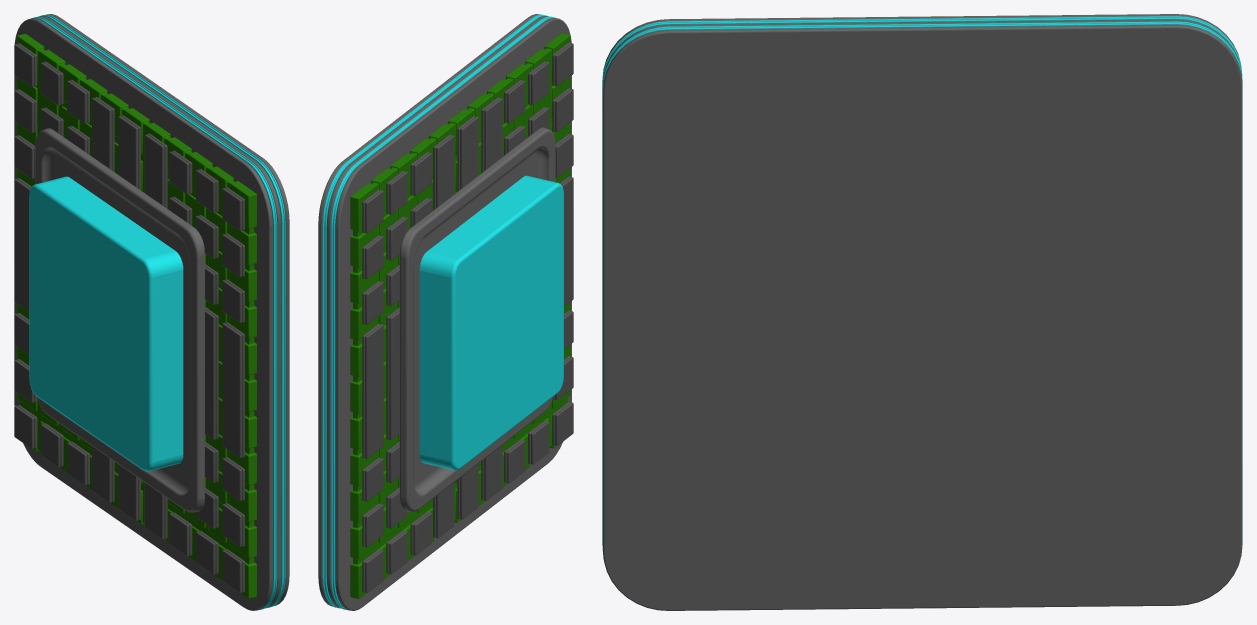
File: chip.fbx
The picture shows the model from 3 angles, left to right: view 1: azimuth 30°, elevation 25°; view 2: azimuth 150°, elevation 25°; view 3: azimuth 270°, elevation 25°; orthographic projection. The views are drawn at different scales.
Visible parts, largest first — view 1: Cubo, PLaca, base, placa_base, base_cubo, detalles_base; view 2: Cubo, PLaca, base, placa_base, base_cubo, detalles_base; view 3: base, detalles_base.
Boxes of the visible parts, <box> form: Cubo: <box>29,176,183,471</box>; PLaca: <box>14,43,244,593</box>; base: <box>14,14,289,610</box>; placa_base: <box>17,33,256,598</box>; base_cubo: <box>35,128,204,512</box>; detalles_base: <box>31,14,285,609</box>; Cubo: <box>419,175,563,470</box>; PLaca: <box>362,42,573,592</box>; base: <box>318,14,571,610</box>; placa_base: <box>350,33,570,598</box>; base_cubo: <box>399,127,555,511</box>; detalles_base: <box>322,14,555,610</box>; base: <box>603,14,1242,610</box>; detalles_base: <box>602,16,1242,559</box>.
Bounding box in the file's own units: 4.6 × 23.92 × 23.93.
